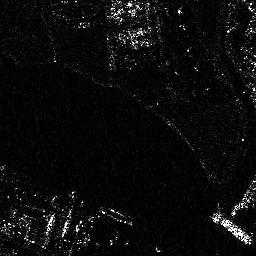ship: (208, 211, 254, 245)
